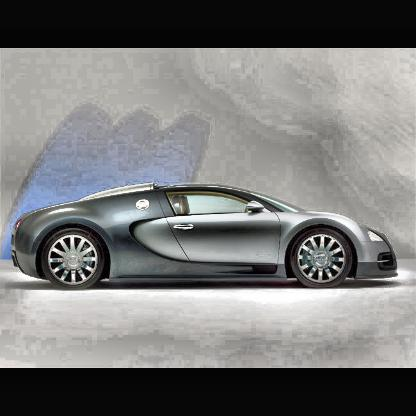Bugatti Veyron 16-4 Coupe 2009: (14, 185, 398, 290)
